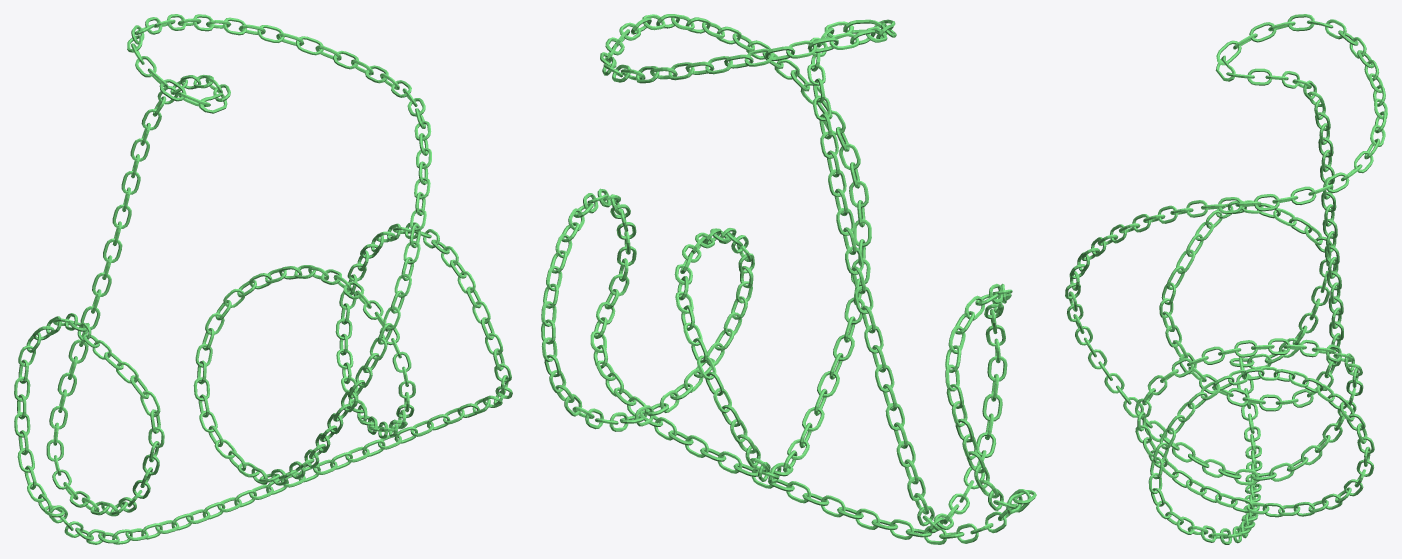
The model's file is Chains_Curve.fbx.
3 views of the same model, side by side, from view 1: azimuth 30°, elevation 25°; view 2: azimuth 150°, elevation 25°; view 3: azimuth 270°, elevation 25° (orthographic). The views are drawn at different scales.
Visible parts, largest first — view 1: Torus; view 2: Torus; view 3: Torus.
Part boxes in pixels (bbox=[...]): Torus: bbox=[14, 14, 512, 544]; Torus: bbox=[541, 14, 1036, 544]; Torus: bbox=[1065, 14, 1387, 544].
Bounding box in the file's own units: 7037 × 7510 × 4794.
